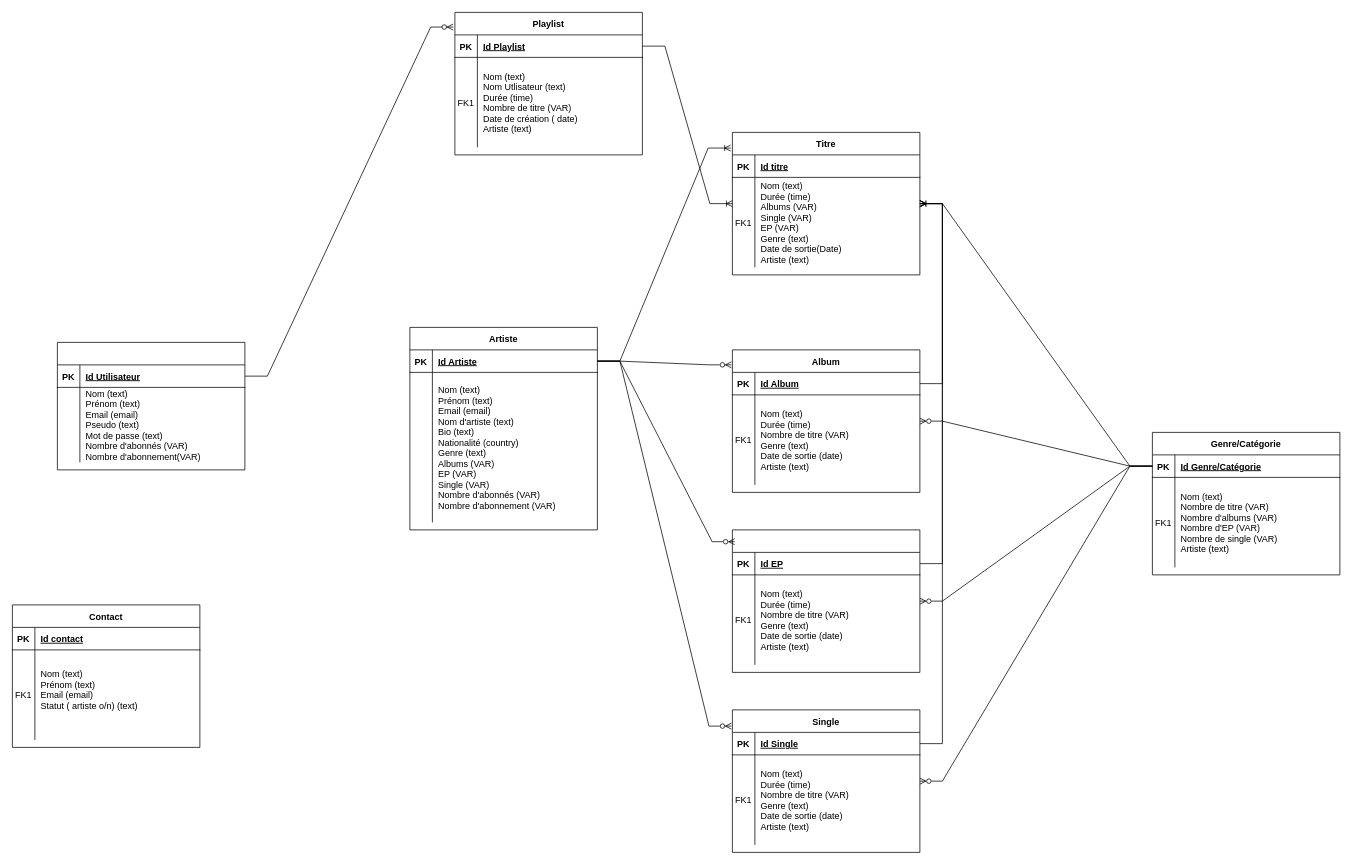
The diagram is 1352 pixels wide and 865 high, and some of its shapes have lost their labels. Each missing label, with the box of its shape:
EP: (732, 529, 920, 672)
Utlisateur: (57, 342, 245, 470)
